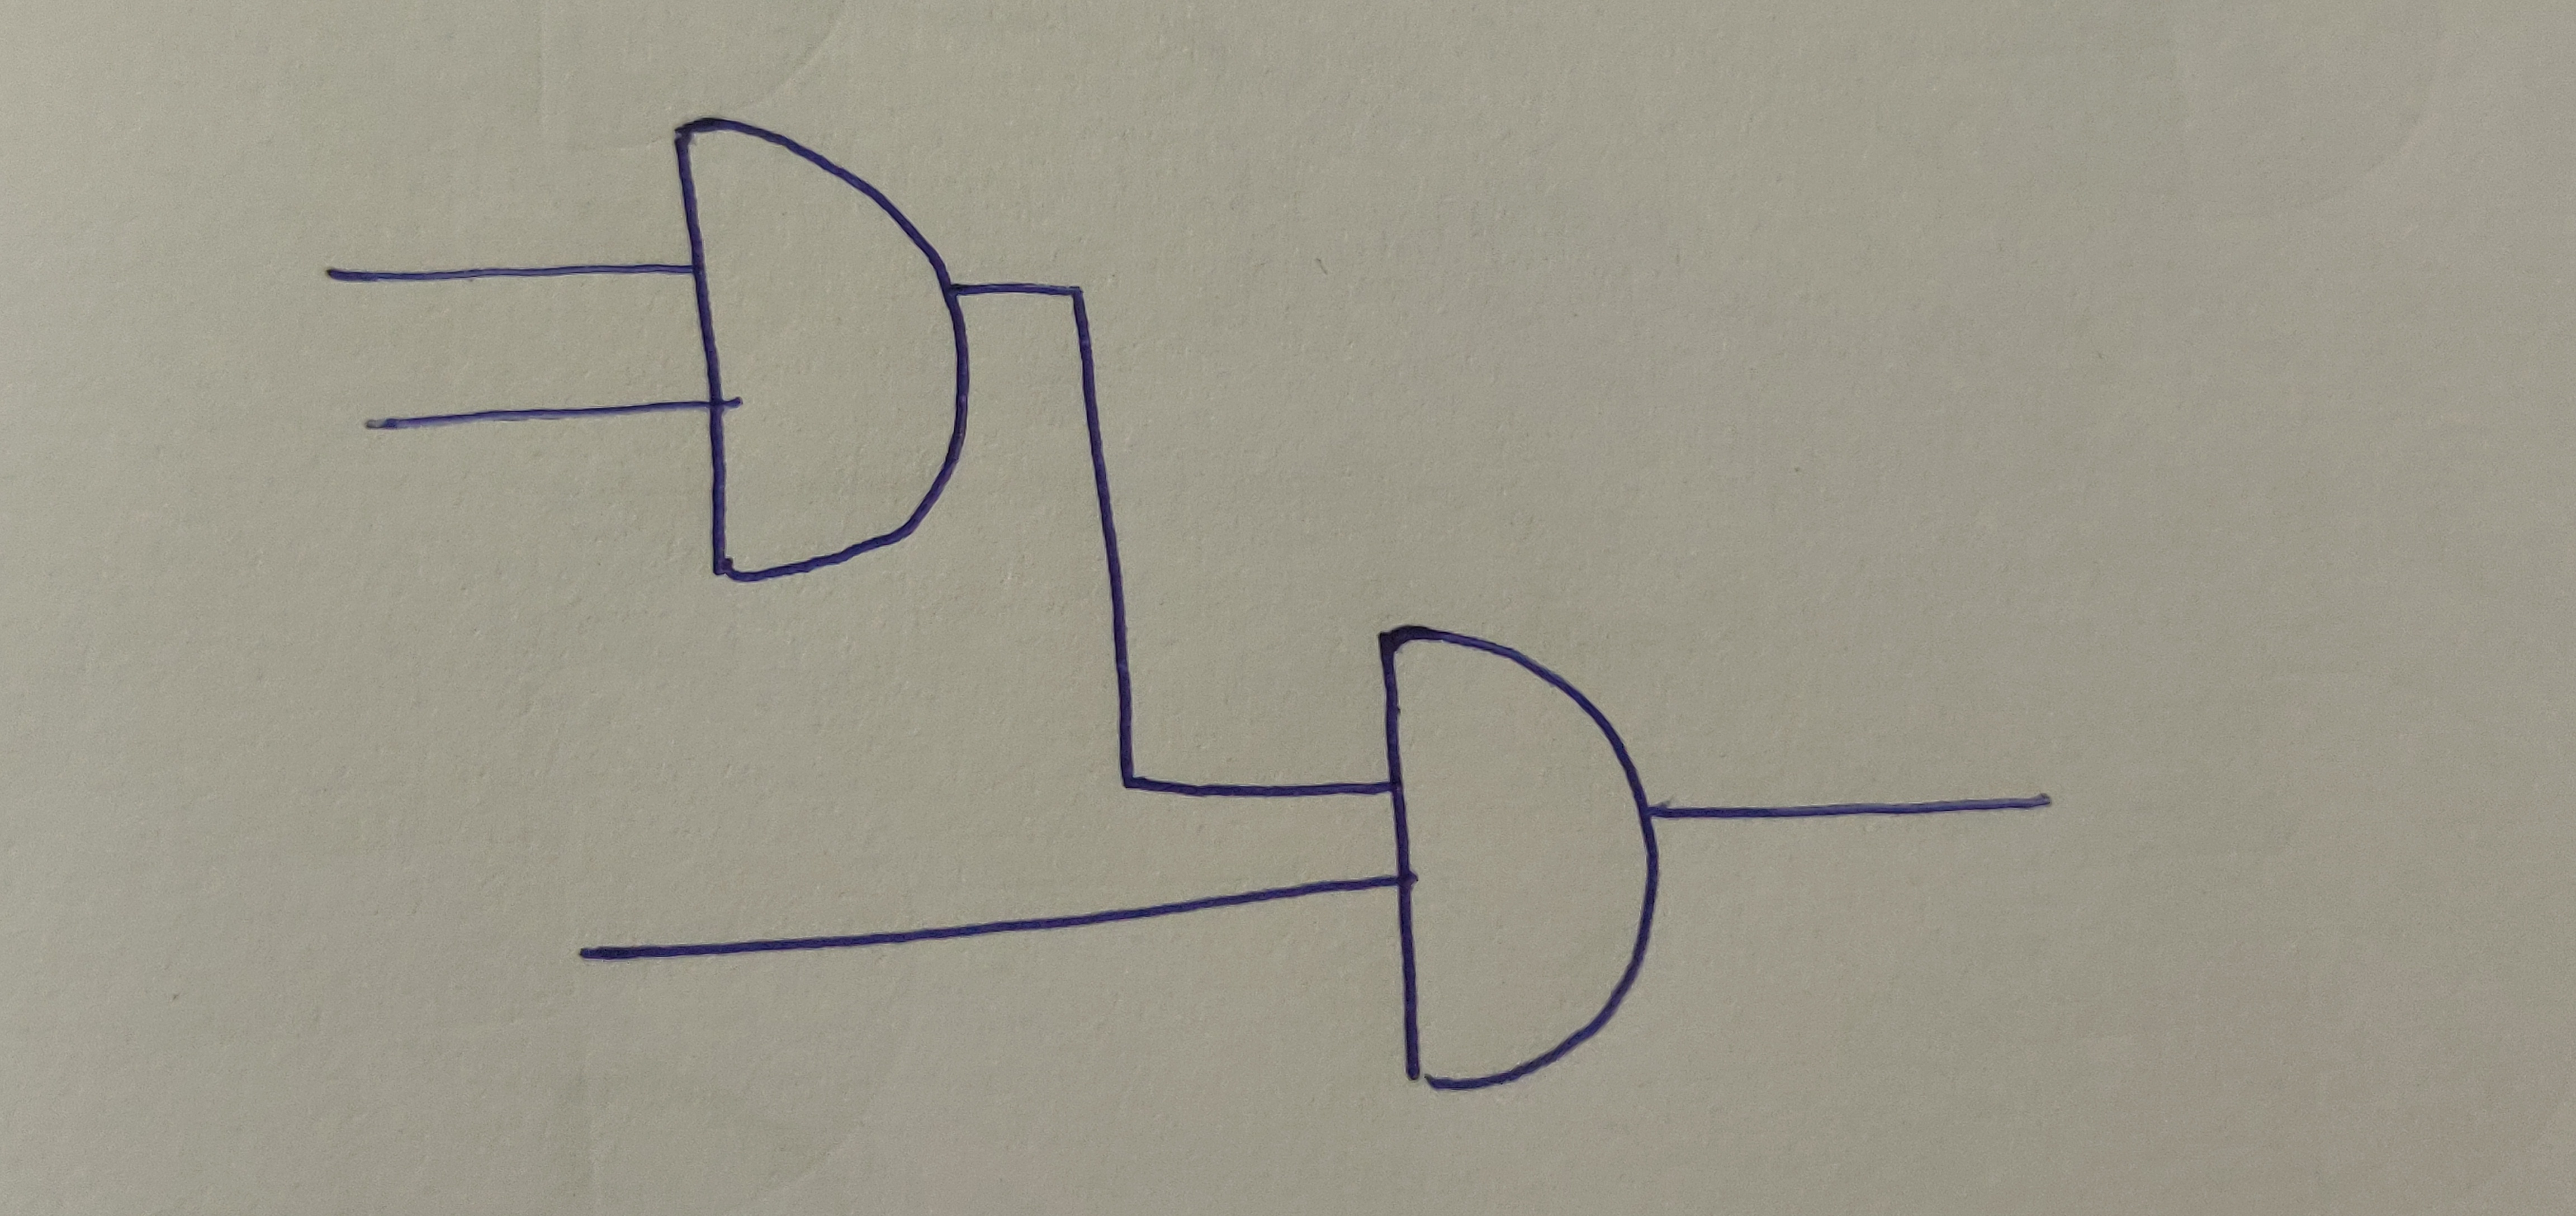and: (670, 115, 976, 578), (1377, 623, 1659, 1091)
